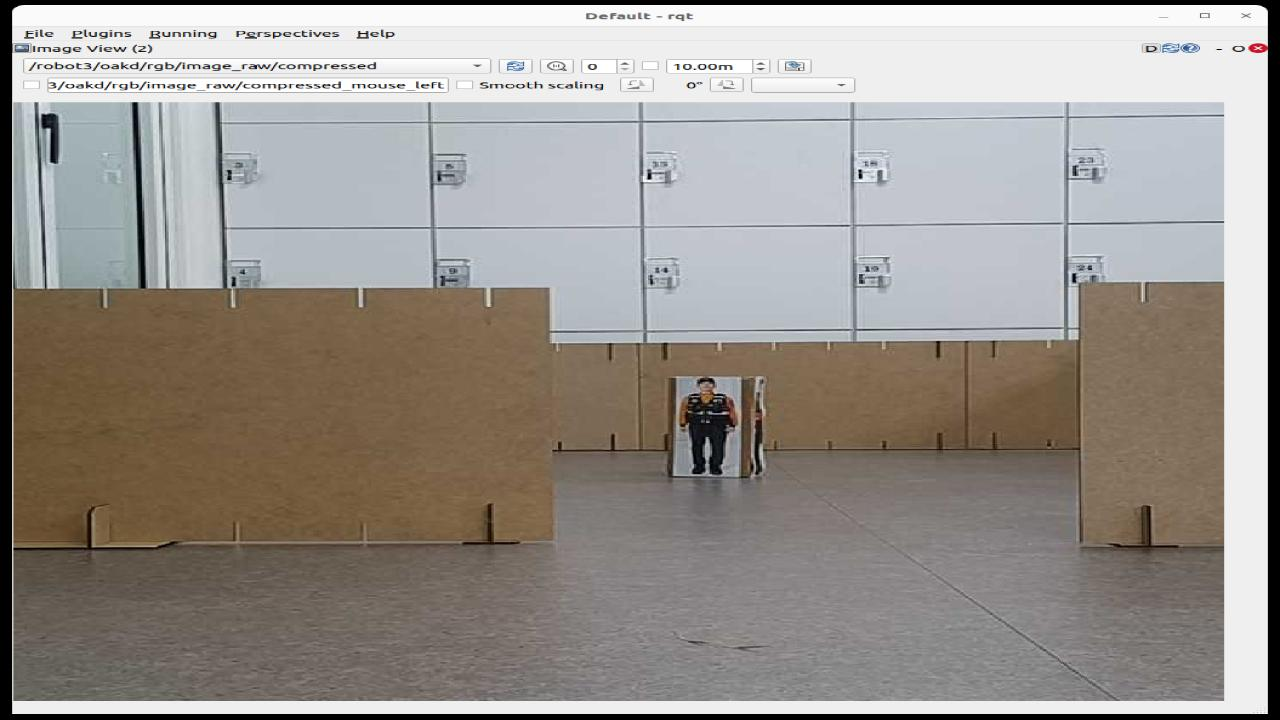Responder: (681, 381, 735, 474)
